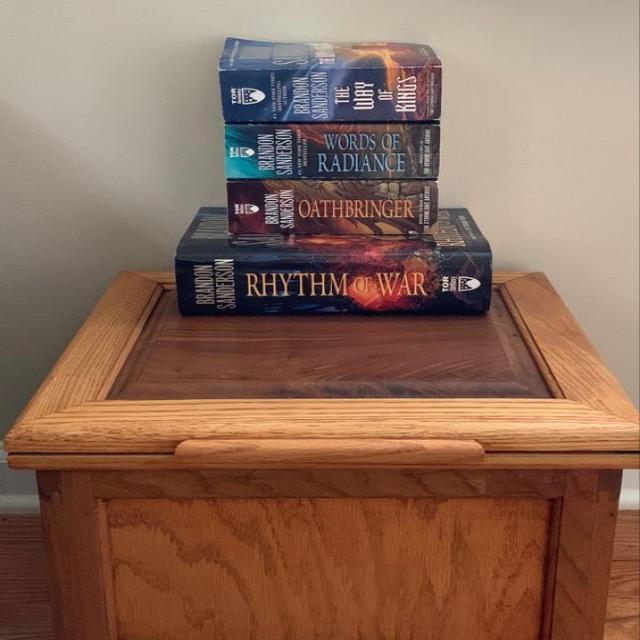book: (176, 257, 491, 315), (218, 70, 442, 122), (226, 126, 438, 179), (227, 182, 438, 234)
